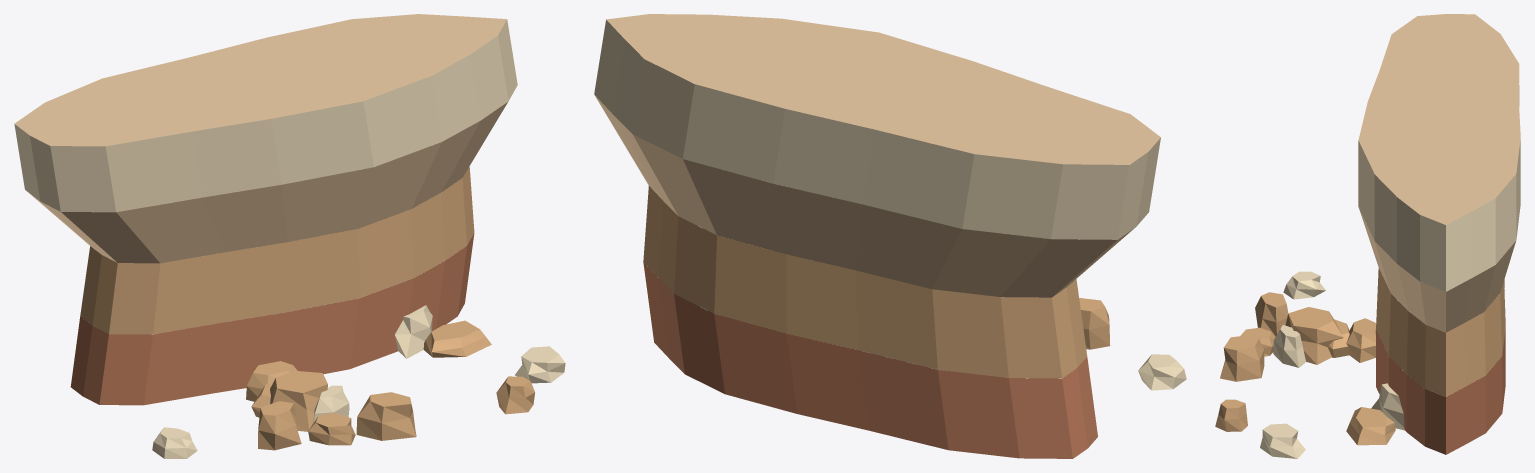
File: desert-canyons-and-oases-dry-pour-off-272d4eec__20957.glb
The picture shows the model from 3 angles, left to right: view 1: azimuth 30°, elevation 25°; view 2: azimuth 150°, elevation 25°; view 3: azimuth 270°, elevation 25°; orthographic projection. The views are drawn at different scales.
Parts seen in each view (by area): view 1: dry-pour-off; view 2: dry-pour-off; view 3: dry-pour-off.
Boxes of the visible parts, <box> form: dry-pour-off: <box>14,14,565,458</box>; dry-pour-off: <box>594,14,1186,458</box>; dry-pour-off: <box>1215,14,1520,458</box>.
Size of the model in its own units: 5.03 by 2.7 by 3.01.
